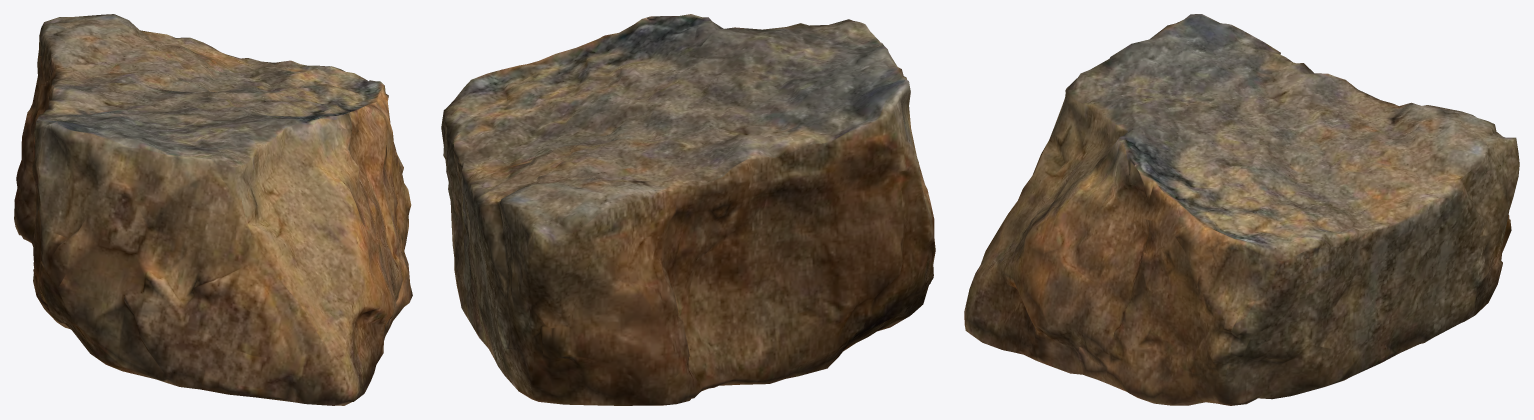
Rendered from namaqualand_boulder_03.glb.
The picture shows the model from 3 angles, left to right: view 1: azimuth 30°, elevation 25°; view 2: azimuth 150°, elevation 25°; view 3: azimuth 270°, elevation 25°; orthographic projection. The views are drawn at different scales.
Parts seen in each view (by area): view 1: boulder_03_LOD0; view 2: boulder_03_LOD0; view 3: boulder_03_LOD0.
Boxes of the visible parts, left/top/right/bottom form: boulder_03_LOD0: left=14, top=14, right=412, bottom=405; boulder_03_LOD0: left=441, top=14, right=935, bottom=405; boulder_03_LOD0: left=964, top=14, right=1519, bottom=405.
Size of the model in its own units: 2.4 by 1.47 by 3.06.
Materials: 1 (1 with a texture image).
